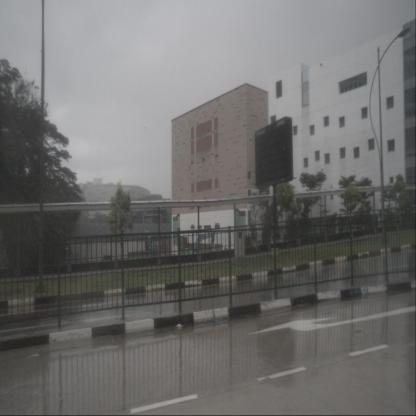human-pedestrian-adult: (389, 211, 395, 232), (396, 212, 402, 233)
